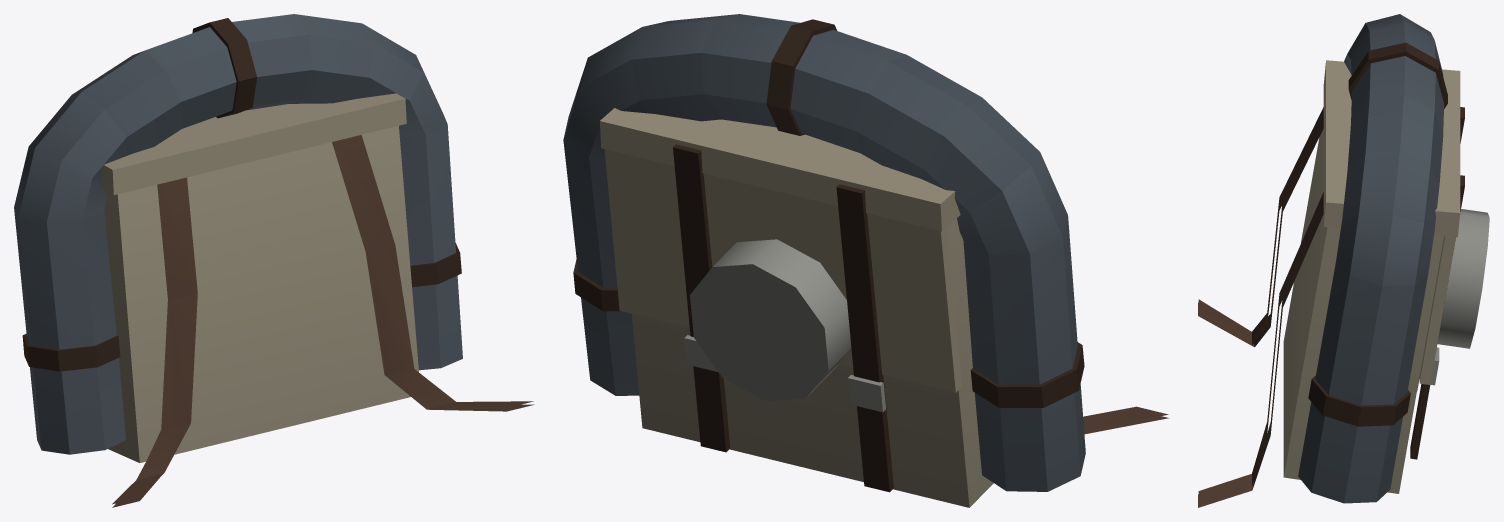
File: mochila.glb
The picture shows the model from 3 angles, left to right: view 1: azimuth 30°, elevation 25°; view 2: azimuth 150°, elevation 25°; view 3: azimuth 270°, elevation 25°; orthographic projection. The views are drawn at different scales.
Parts seen in each view (by area): view 1: Mochila; view 2: Mochila; view 3: Mochila.
Boxes of the visible parts, x1,y1,x2,y2 form: Mochila: (14, 14, 534, 507); Mochila: (563, 14, 1169, 507); Mochila: (1198, 14, 1489, 507).
Size of what is drawn, in the model's own units: 0.548 by 0.4655 by 0.325.
